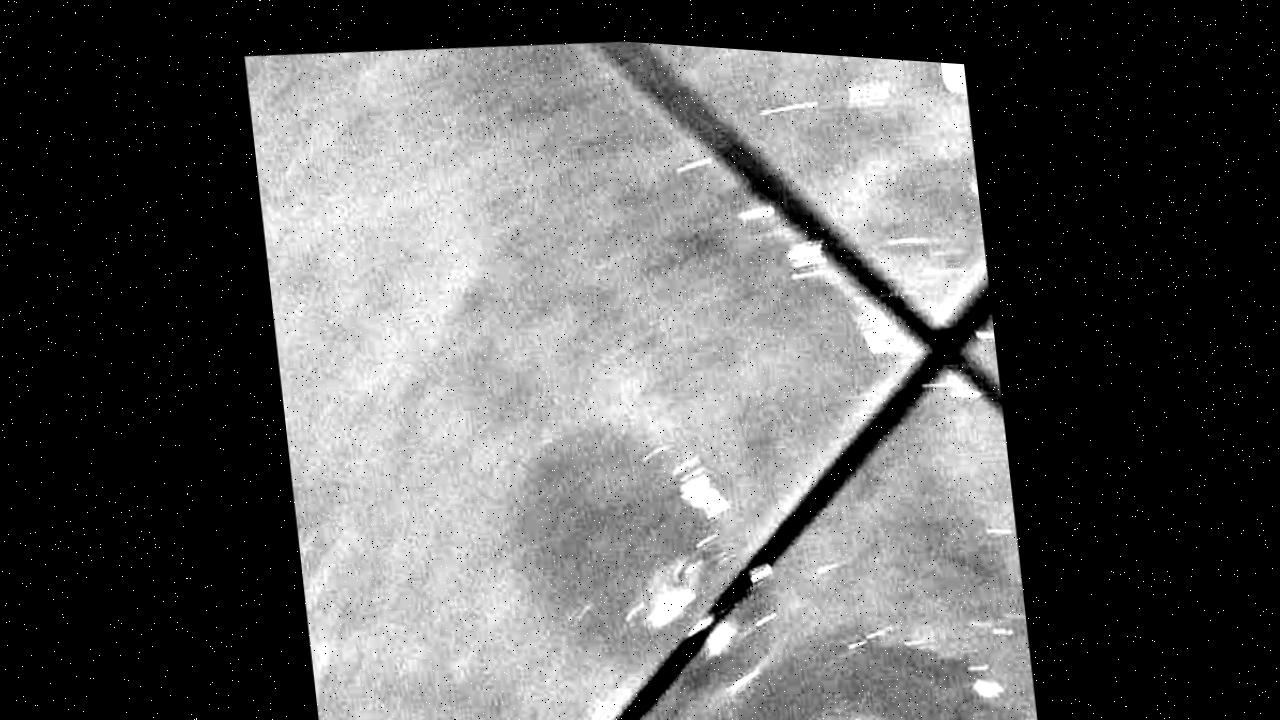drinks Stains: (495, 354, 1030, 720)
